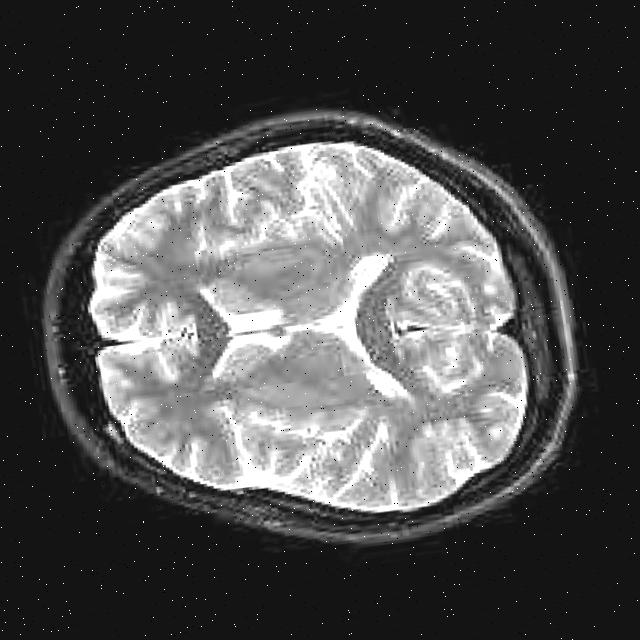NoTumor: (58, 112, 552, 551)
